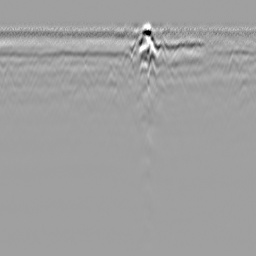cavity: (119, 48, 133, 73)
